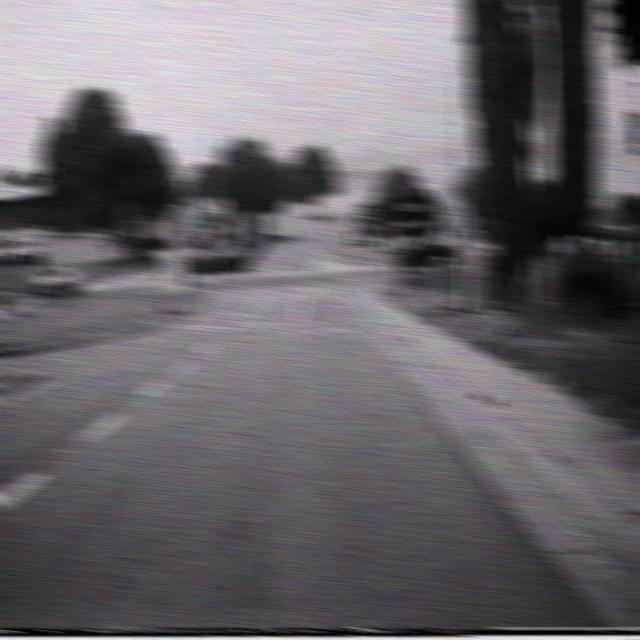stop_sign: (178, 220, 196, 240), (379, 220, 396, 240)
